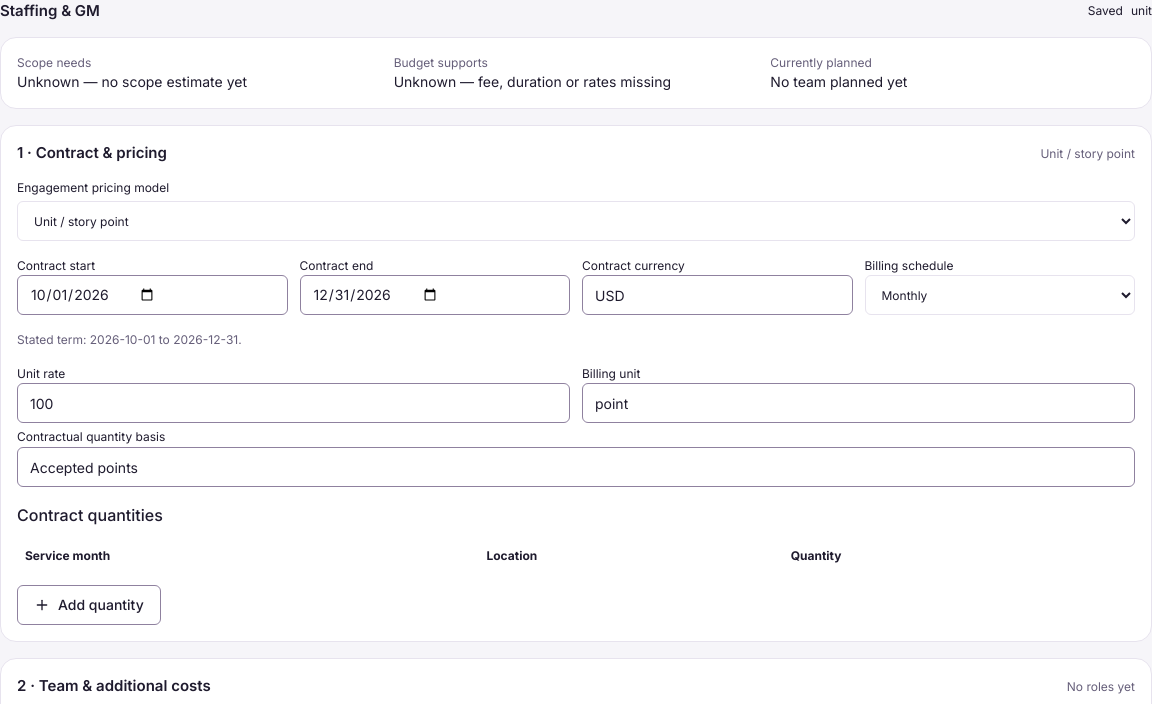
Scenario: Commercial pricing profiles › requires confirmation before replacing incompatible pricing terms
Select "Milestone" in the dropdown named "Pricing profile" at (576,221), box [17,201,1135,241]
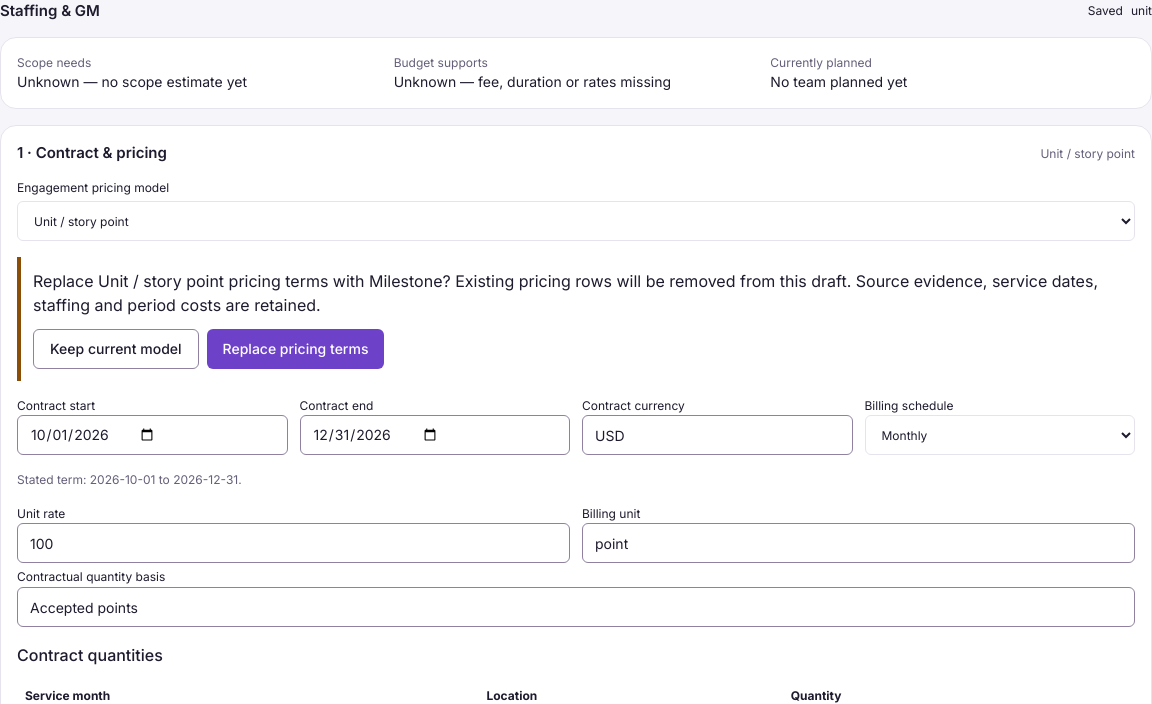
Expected: the field labelled "Unit rate" holds "100", [17,523,570,563]
Click the button "Keep current model" at (116,349), box [33,329,199,369]
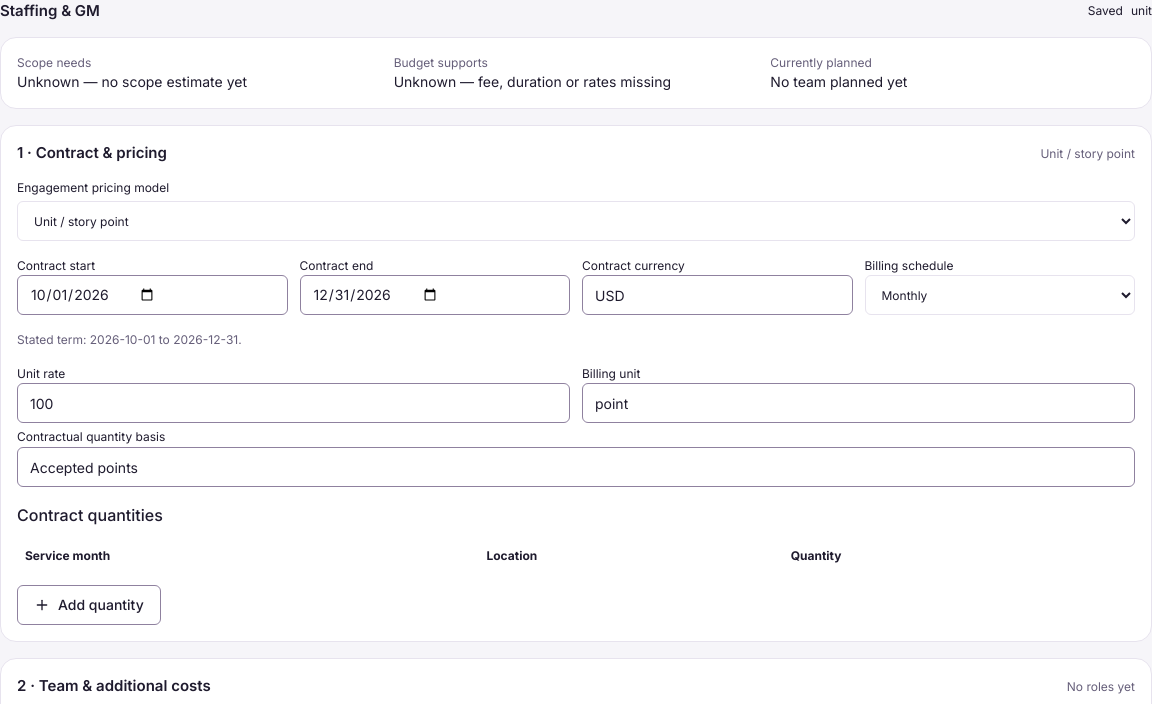
Expected: the field labelled "Unit rate" holds "100", [17,383,570,423]
Select "Milestone" in the dropdown named "Pricing profile" at (576,221), box [17,201,1135,241]
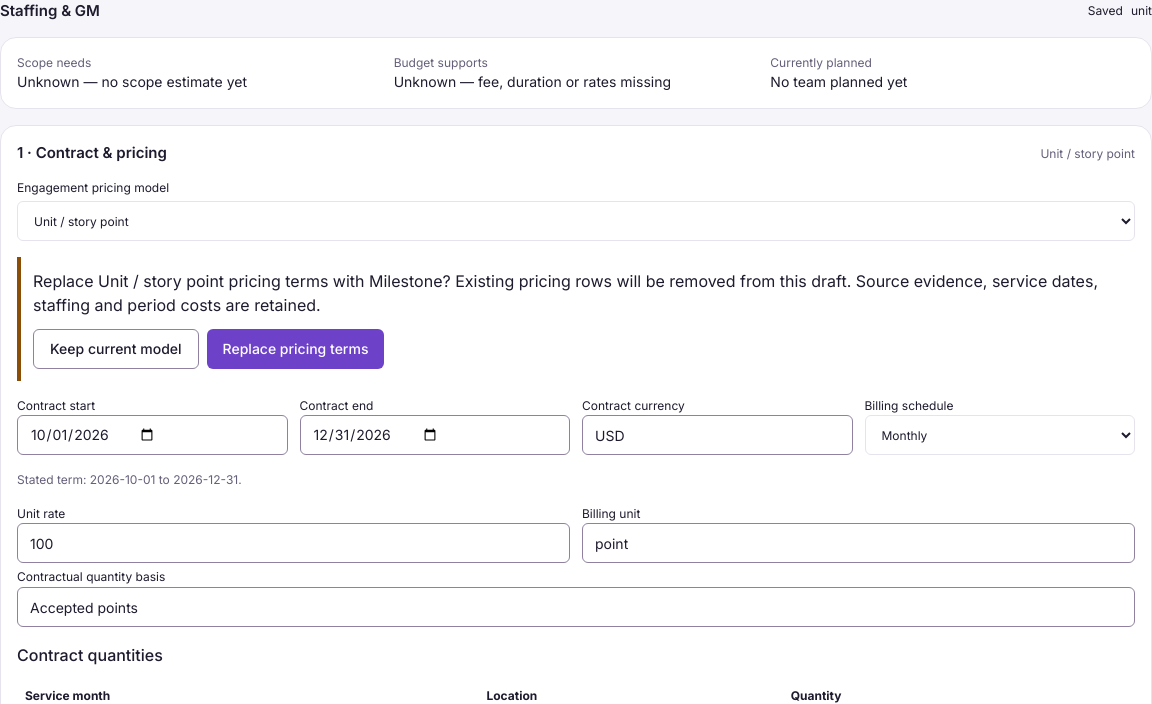
Click the button "Replace pricing terms" at (296,349), box [207,329,384,369]
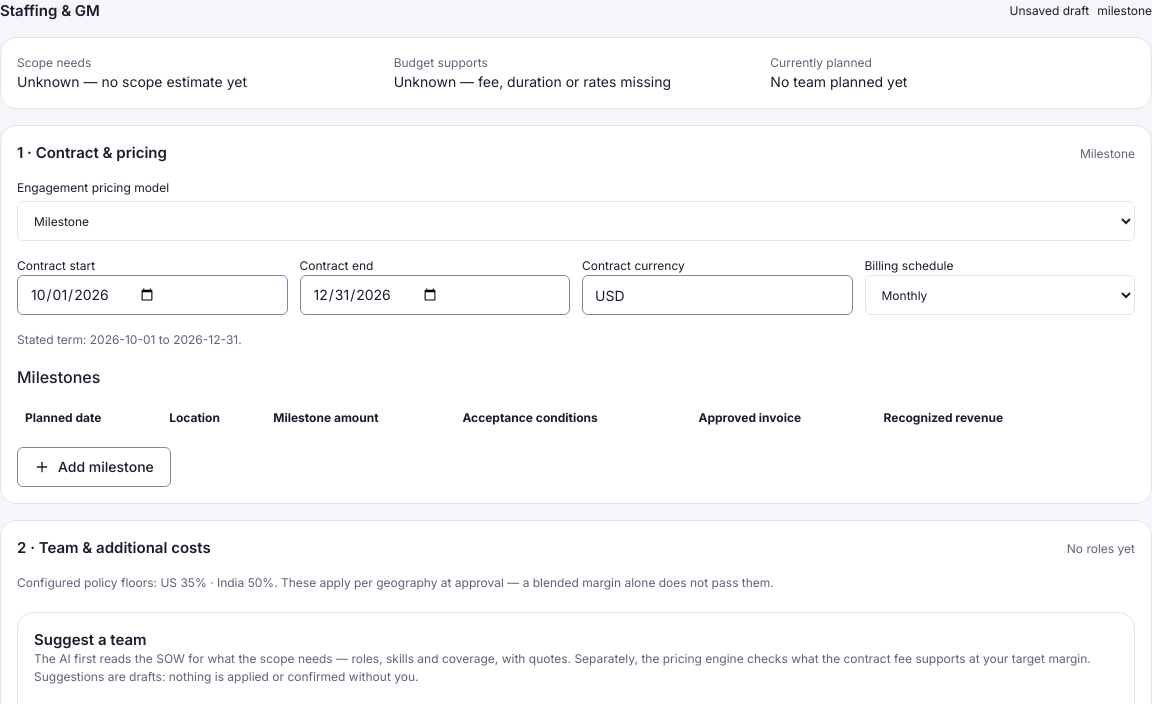
Now the button "Add milestone" is shown, box [17,447,171,487]
Now the label labelled "Unit rate" is gone
